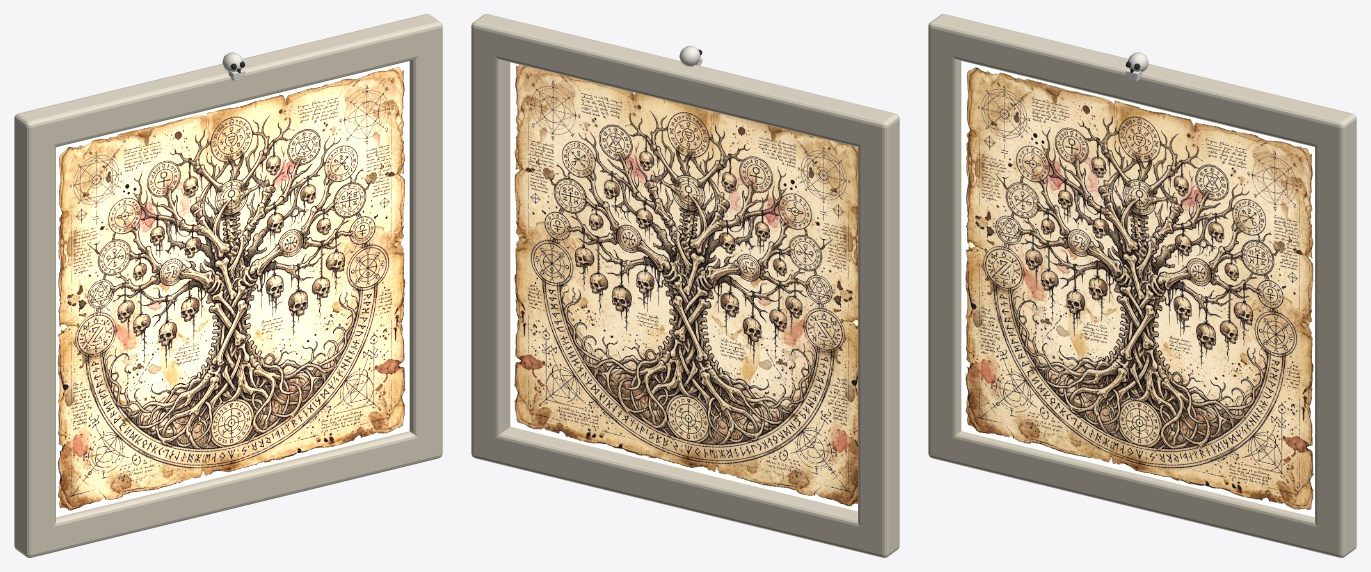
File: art_tree_of_death.glb
3 renders of one model, left to right at view 1: azimuth 30°, elevation 25°; view 2: azimuth 150°, elevation 25°; view 3: azimuth 330°, elevation 25°, orthographic.
Visible parts, largest first — view 1: GD_art_tree_of_death__m0, GD_art_tree_of_death__m1; view 2: GD_art_tree_of_death__m0, GD_art_tree_of_death__m1; view 3: GD_art_tree_of_death__m0, GD_art_tree_of_death__m1.
Boxes of the visible parts, x1,y1,x2,y2 form: GD_art_tree_of_death__m0: (56,61,409,517); GD_art_tree_of_death__m1: (14,14,442,557); GD_art_tree_of_death__m0: (510,62,857,511); GD_art_tree_of_death__m1: (471,14,899,557); GD_art_tree_of_death__m0: (961,61,1314,517); GD_art_tree_of_death__m1: (928,14,1356,557).
Size of the model in its own units: 0.96 by 0.9988 by 0.0744.
4 materials, 1 textured.
